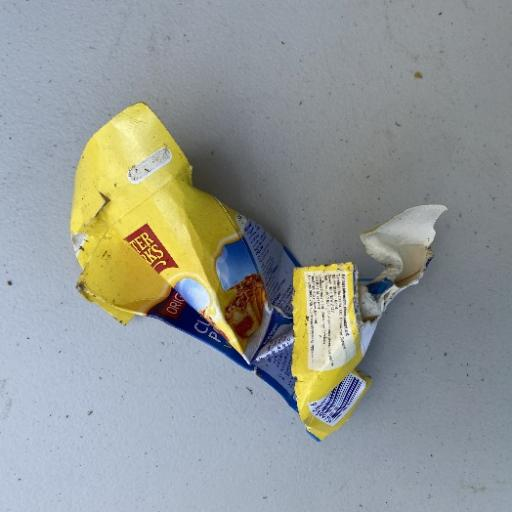Cardboard: (68, 100, 448, 442), (68, 100, 274, 366)
